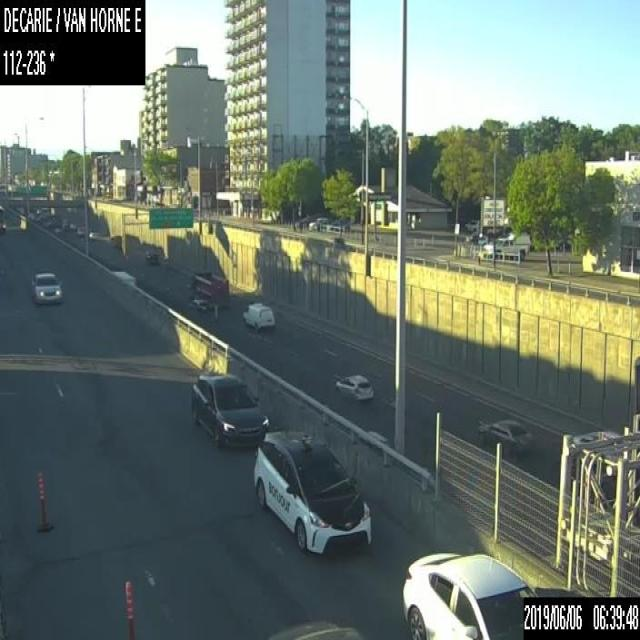construction: (34, 468, 51, 535), (121, 573, 134, 639)
vehicle: (253, 428, 372, 558), (400, 549, 536, 639), (189, 373, 269, 449), (267, 618, 363, 638), (478, 418, 531, 453), (187, 271, 229, 309), (29, 268, 64, 307), (332, 370, 374, 402), (241, 300, 274, 331), (484, 236, 528, 259), (143, 249, 160, 265), (308, 216, 327, 229), (464, 219, 479, 231), (0, 203, 5, 233), (86, 230, 98, 240), (75, 225, 83, 236)
